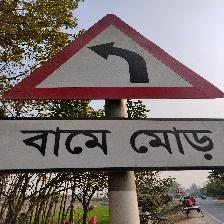Left-Turn: (0, 11, 221, 171)
